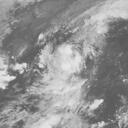cyclone: (30, 39, 91, 126)
